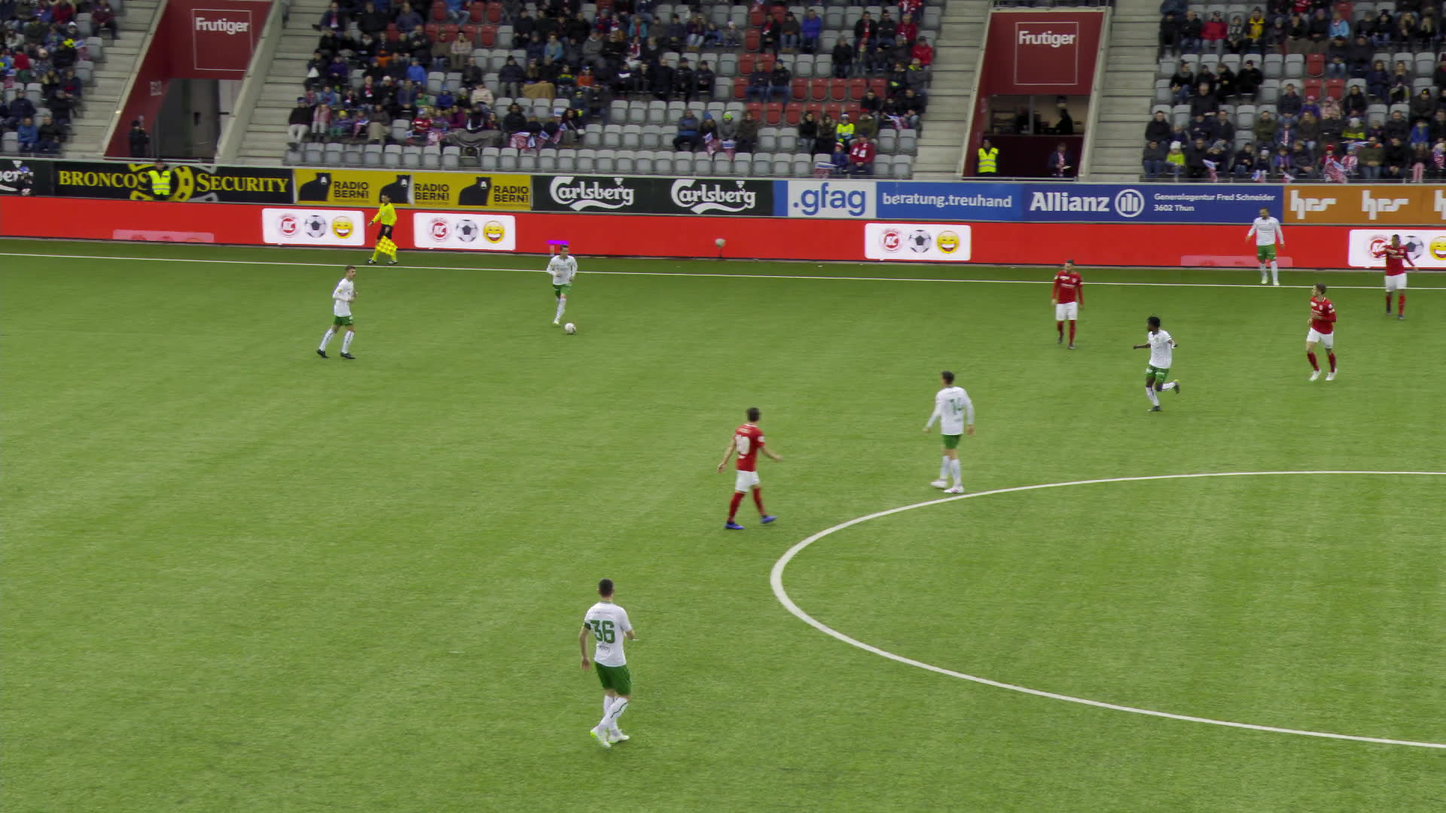ball: (558, 321, 574, 333)
player: (575, 577, 636, 748), (709, 406, 773, 529), (916, 370, 968, 495), (1132, 311, 1181, 410), (315, 264, 357, 360), (1366, 232, 1411, 319), (1300, 283, 1338, 383), (1045, 257, 1080, 349), (1241, 206, 1280, 286), (541, 244, 574, 325)
referee: (366, 193, 395, 264)
